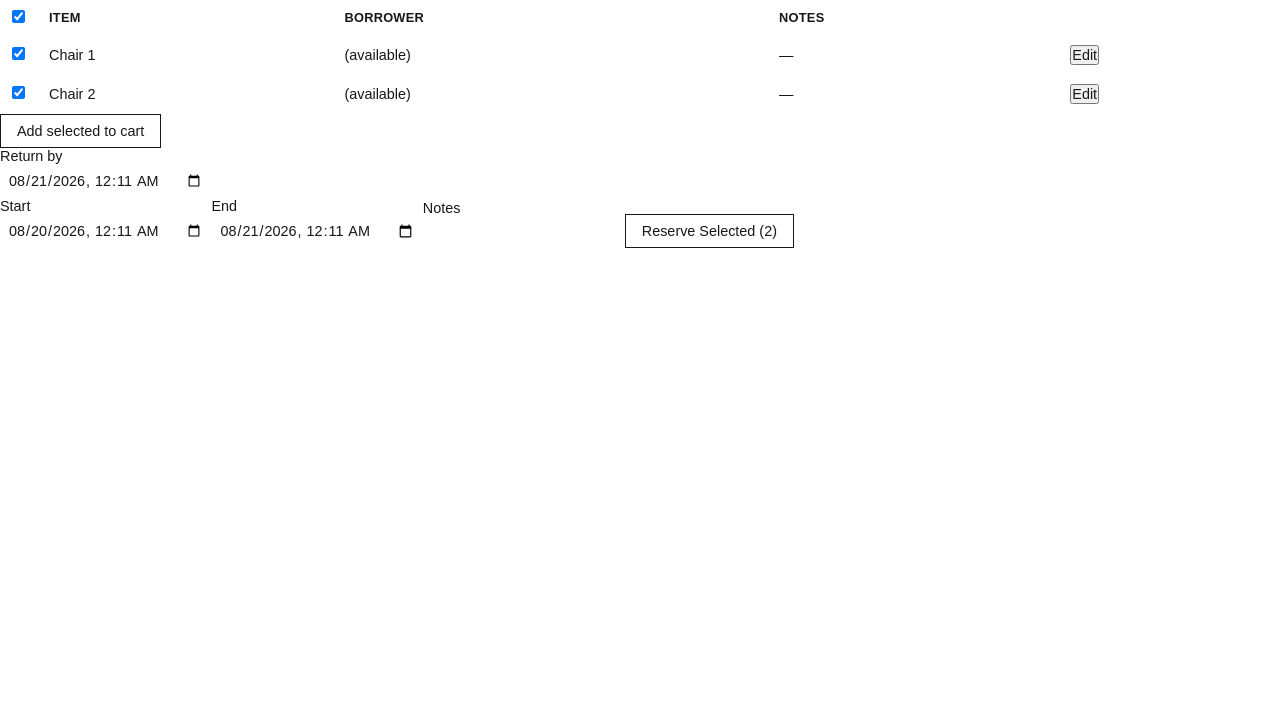
Scenario: closing the edit modal removes it
The width and height of the screenshot is (1280, 720).
Click the button with aria-label "Edit Chair 1": (1085, 55) [1070,45,1099,65]
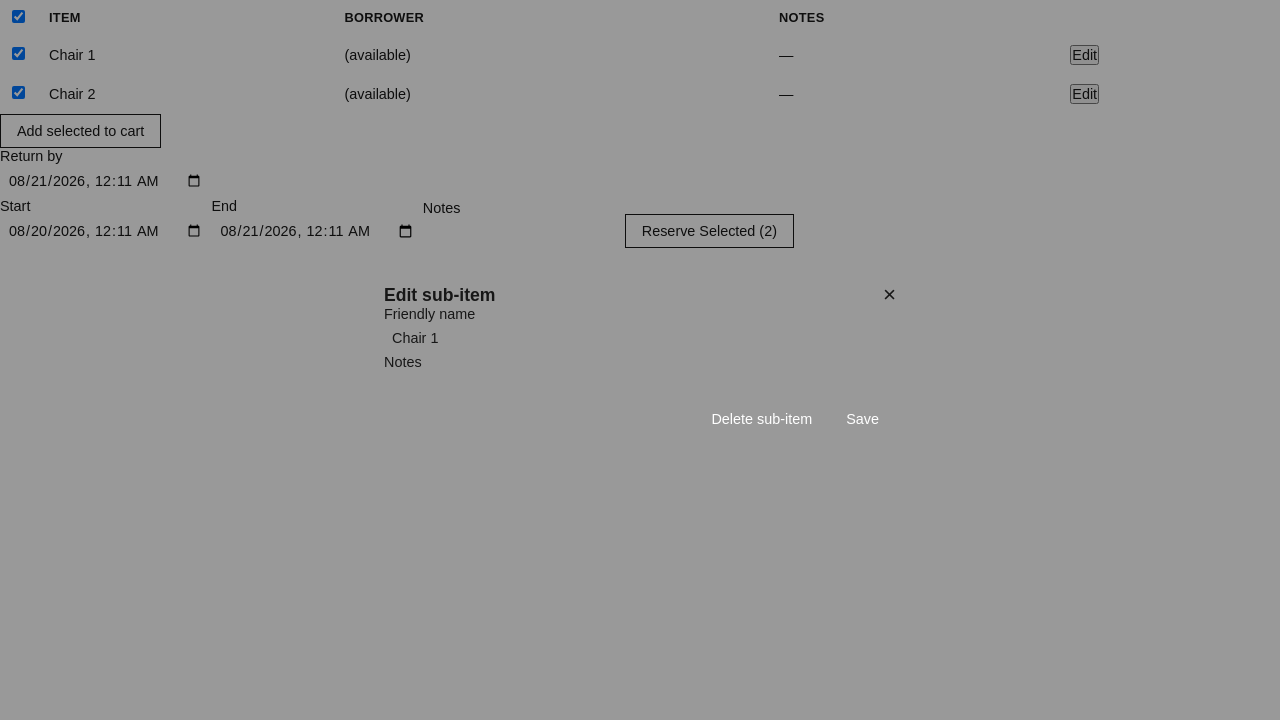
Click the button named "Close": (889, 295) [883,284,896,306]
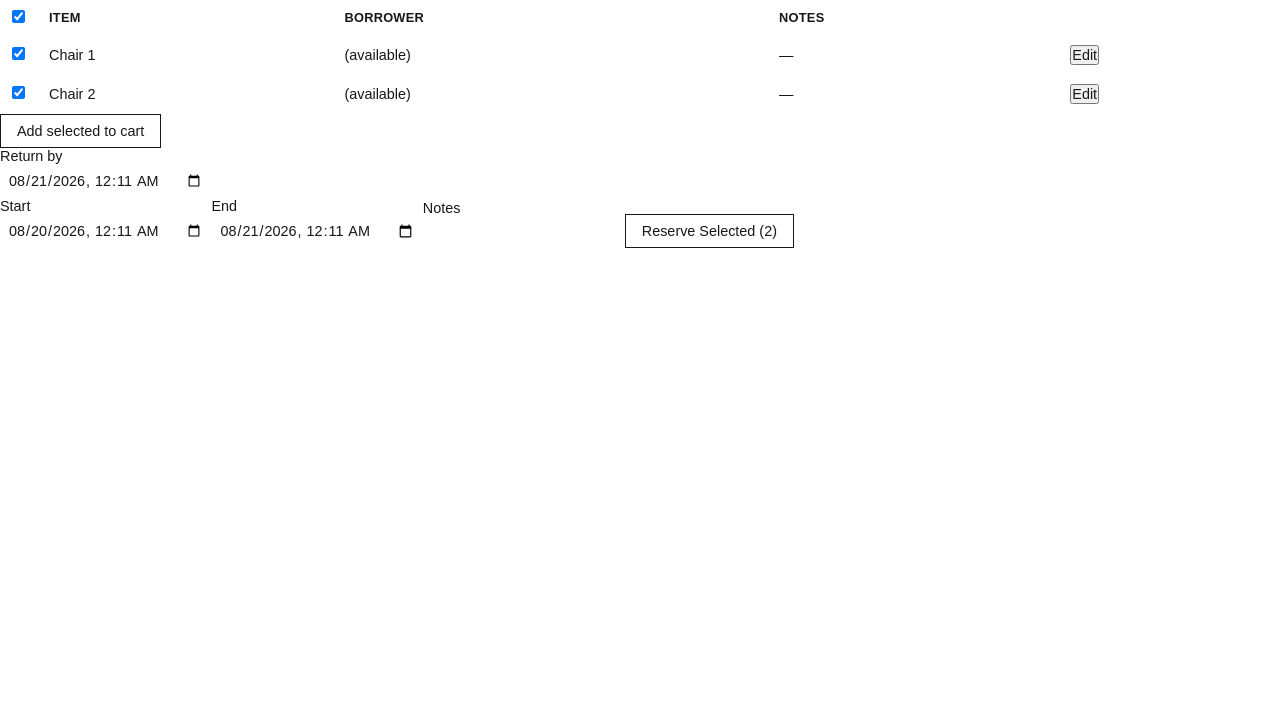
Expected: the dialog is gone
